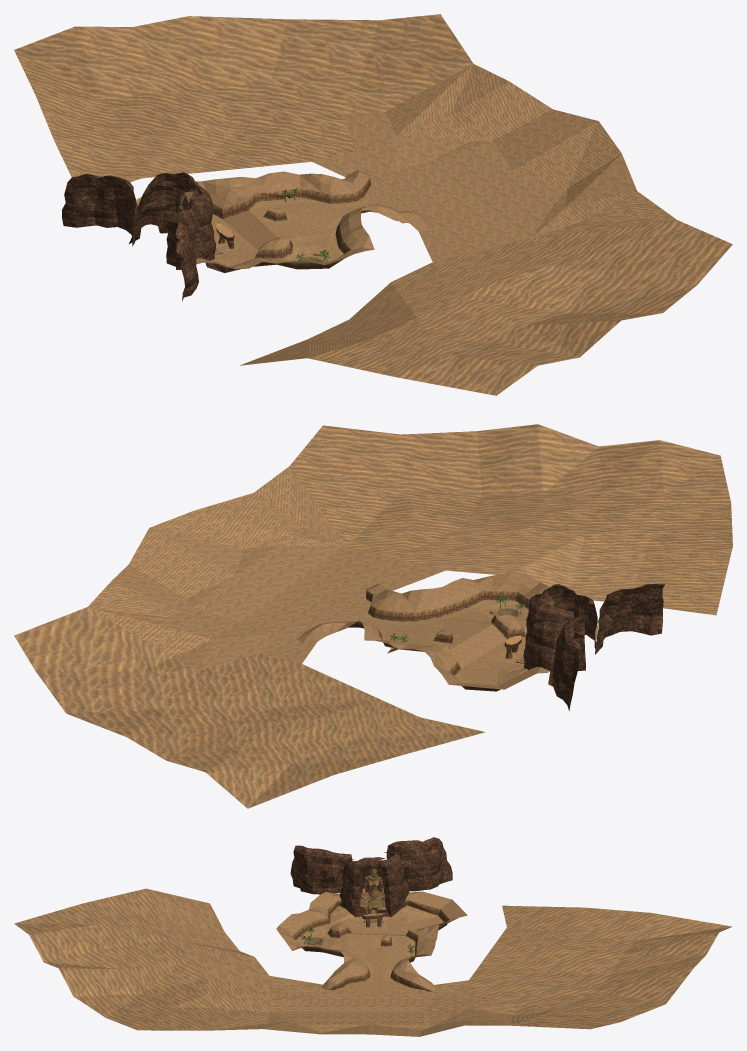
Rendered from Desert Colossus.dae.
The picture shows the model from 3 angles, top to bottom: view 1: azimuth 30°, elevation 25°; view 2: azimuth 150°, elevation 25°; view 3: azimuth 270°, elevation 25°; orthographic projection. The views are drawn at different scales.
Visible parts, largest first — view 1: node-0330F6BD, node-02C6361F, node-00B8ACAC, node-01175939, node-027E1210, node-03392D59; view 2: node-0330F6BD, node-02C6361F, node-00B8ACAC, node-01175939, node-027E1210, node-03392D59; view 3: node-0330F6BD, node-02C6361F, node-00B8ACAC, node-027E1210, node-01175939, node-03392D59.
Part boxes in pixels (x1,y1,x2,y2): node-0330F6BD: [14, 14, 732, 395]; node-02C6361F: [62, 172, 215, 301]; node-00B8ACAC: [136, 170, 430, 269]; node-01175939: [158, 177, 371, 273]; node-027E1210: [211, 196, 372, 264]; node-03392D59: [62, 173, 215, 269]; node-0330F6BD: [14, 424, 732, 808]; node-02C6361F: [523, 584, 664, 710]; node-00B8ACAC: [297, 572, 598, 689]; node-01175939: [297, 589, 531, 691]; node-027E1210: [361, 600, 528, 684]; node-03392D59: [523, 595, 597, 693]; node-0330F6BD: [14, 888, 732, 1036]; node-02C6361F: [290, 837, 452, 909]; node-00B8ACAC: [276, 891, 467, 990]; node-027E1210: [296, 906, 443, 981]; node-01175939: [291, 900, 449, 991]; node-03392D59: [339, 837, 450, 917].
Bounding box in the file's own units: 15611 × 2814 × 26838.
